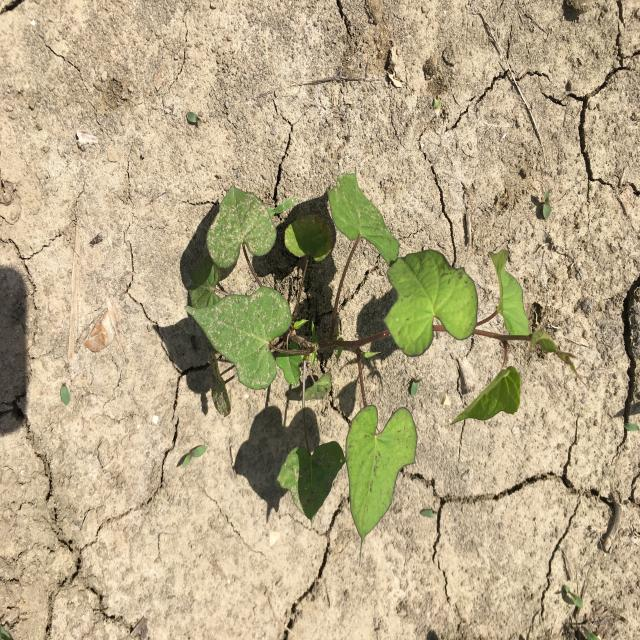MorningGlory: (183, 172, 579, 546)
